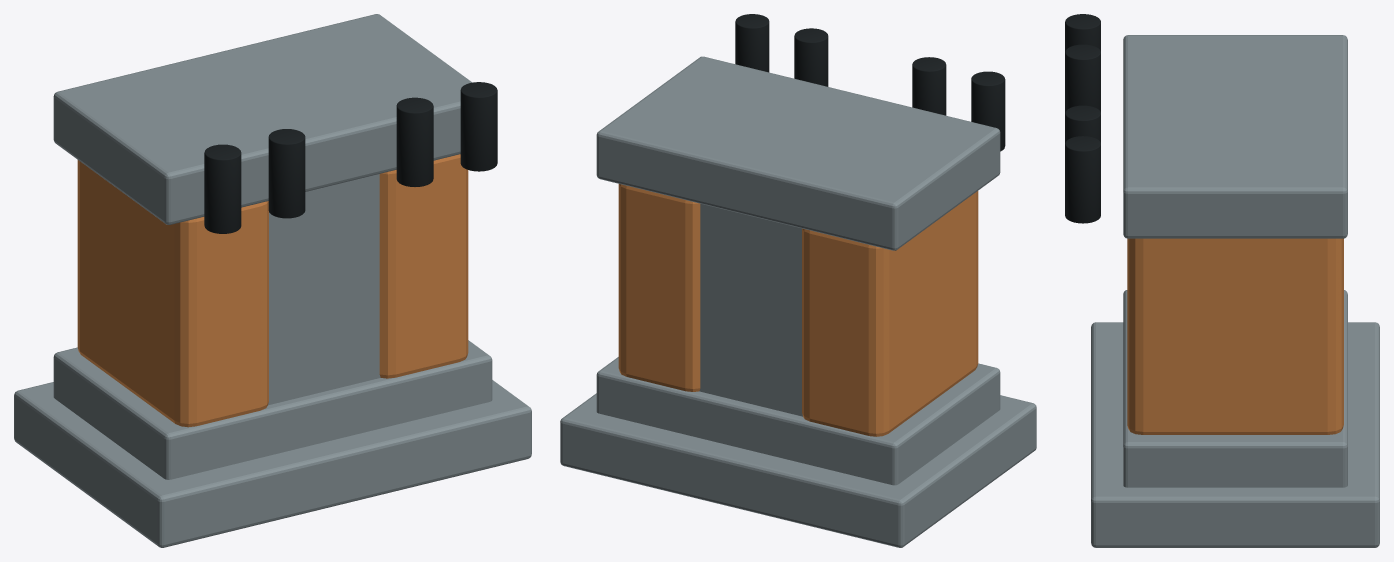
Rendered from control_transformer.glb.
3 renders of one model, left to right at view 1: azimuth 30°, elevation 25°; view 2: azimuth 150°, elevation 25°; view 3: azimuth 270°, elevation 25°, orthographic. The views are drawn at different scales.
Parts seen in each view (by area): view 1: CORE_YOKE_0.9, WINDING_PRIMARY, BASE, CORE_YOKE_0.2, CORE_CENTER, WINDING_SECONDARY, TERMINAL_0, TERMINAL_1, TERMINAL_3, TERMINAL_2; view 2: CORE_YOKE_0.9, WINDING_PRIMARY, BASE, CORE_YOKE_0.2, CORE_CENTER, WINDING_SECONDARY, TERMINAL_0, TERMINAL_2, TERMINAL_1, TERMINAL_3; view 3: CORE_YOKE_0.9, WINDING_SECONDARY, BASE, CORE_YOKE_0.2, TERMINAL_3, TERMINAL_1, TERMINAL_2, TERMINAL_0.
Part boxes in pixels (x1=…): CORE_YOKE_0.9: x1=53, y1=14, x2=472, y2=224; WINDING_PRIMARY: x1=77, y1=160, x2=268, y2=427; BASE: x1=14, y1=380, x2=531, y2=547; CORE_YOKE_0.2: x1=53, y1=340, x2=492, y2=479; CORE_CENTER: x1=268, y1=174, x2=380, y2=405; WINDING_SECONDARY: x1=379, y1=154, x2=468, y2=378; TERMINAL_0: x1=204, y1=144, x2=241, y2=233; TERMINAL_1: x1=268, y1=129, x2=305, y2=218; TERMINAL_3: x1=460, y1=82, x2=497, y2=171; TERMINAL_2: x1=396, y1=97, x2=433, y2=186; CORE_YOKE_0.9: x1=596, y1=56, x2=1000, y2=250; WINDING_PRIMARY: x1=802, y1=191, x2=978, y2=436; BASE: x1=560, y1=393, x2=1036, y2=547; CORE_YOKE_0.2: x1=596, y1=357, x2=1000, y2=485; CORE_CENTER: x1=699, y1=203, x2=802, y2=416; WINDING_SECONDARY: x1=618, y1=184, x2=700, y2=391; TERMINAL_0: x1=971, y1=71, x2=1005, y2=151; TERMINAL_2: x1=794, y1=28, x2=828, y2=86; TERMINAL_1: x1=912, y1=57, x2=946, y2=115; TERMINAL_3: x1=735, y1=14, x2=769, y2=72; CORE_YOKE_0.9: x1=1123, y1=35, x2=1347, y2=238; WINDING_SECONDARY: x1=1127, y1=238, x2=1343, y2=434; BASE: x1=1091, y1=322, x2=1379, y2=547; CORE_YOKE_0.2: x1=1123, y1=290, x2=1347, y2=487; TERMINAL_3: x1=1065, y1=136, x2=1100, y2=223; TERMINAL_1: x1=1065, y1=44, x2=1100, y2=112; TERMINAL_2: x1=1065, y1=105, x2=1100, y2=143; TERMINAL_0: x1=1065, y1=14, x2=1100, y2=51.
Size of the model in its own units: 1.05 by 1.04 by 0.785.
